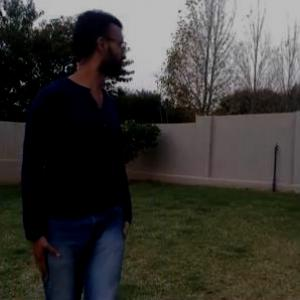follow: (16, 4, 136, 298)
